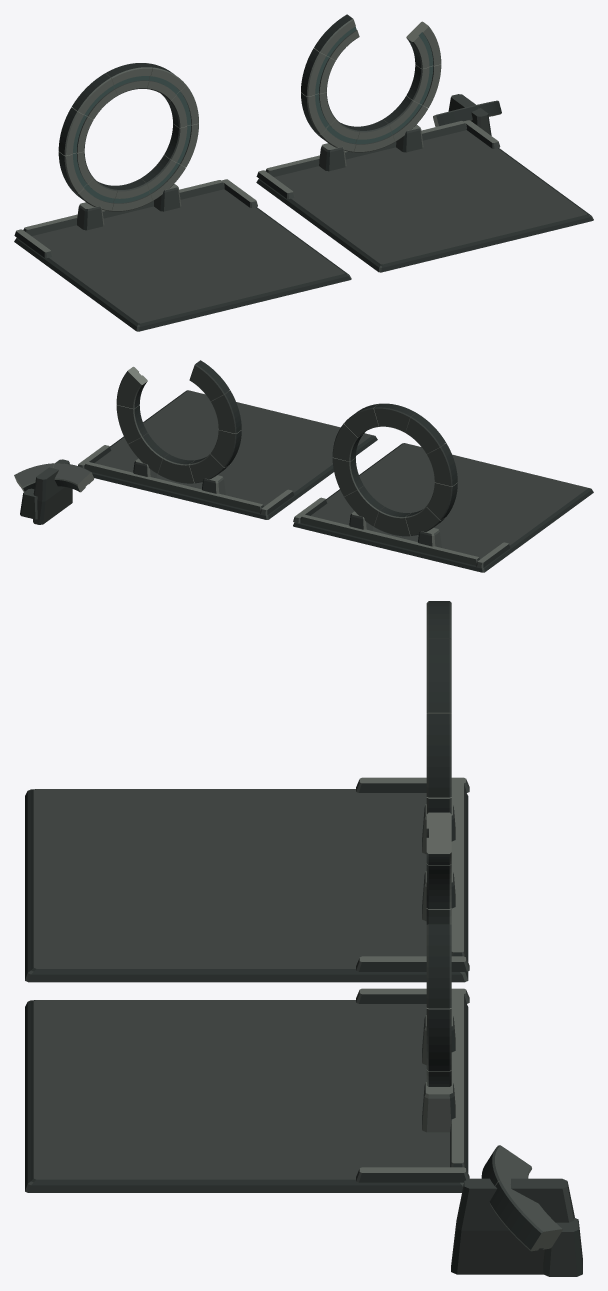
Rendered from l04_wind_orchestra_broken_ring.glb.
3 renders of one model, top to bottom at view 1: azimuth 30°, elevation 25°; view 2: azimuth 150°, elevation 25°; view 3: azimuth 270°, elevation 25°, orthographic. The views are drawn at different scales.
Parts seen in each view (by area): view 1: L04_Intact_CourtSurface, L04_Damaged_CourtSurface, L04_Damaged_CourtFoundation, L04_Intact_CourtFoundation, L04_Damaged_LowCourtWall_Rear, L04_Intact_LowCourtWall_Rear, L04_Intact_RingArc_04, L04_Damaged_RingArc_04, L04_Intact_RingArc_05, L04_Damaged_RingArc_05, L04_Damaged_RingArc_01, L04_Intact_RingArc_03 (+20 smaller); view 2: L04_Intact_CourtSurface, L04_Damaged_CourtSurface, L04_Intact_CourtFoundation, L04_Intact_LowCourtWall_Rear, L04_Damaged_CourtFoundation, L04_Damaged_LowCourtWall_Rear, L04_Damaged_SideCliffWall, L04_Damaged_RingArc_04, L04_Intact_RingArc_04, L04_Intact_RingArc_05, L04_Damaged_RingArc_05, L04_Damaged_RingArc_01 (+21 smaller); view 3: L04_Damaged_CourtSurface, L04_Intact_CourtSurface, L04_Damaged_SideCliffWall, L04_Intact_CourtFoundation, L04_Damaged_CourtFoundation, L04_Damaged_FallenMatchingArc_01, L04_Damaged_LowCourtWall_Rear, L04_Intact_LowCourtWall_Rear, L04_Damaged_RingArc_01, L04_Intact_RingArc_01, L04_Intact_RingArc_02, L04_Damaged_LowCourtWall_Right (+10 smaller).
Boxes of the visible parts, bbox=[...] form: L04_Intact_CourtSurface: bbox=[32, 189, 346, 325]; L04_Damaged_CourtSurface: bbox=[274, 130, 588, 265]; L04_Damaged_CourtFoundation: bbox=[256, 148, 593, 272]; L04_Intact_CourtFoundation: bbox=[14, 207, 351, 331]; L04_Damaged_LowCourtWall_Rear: bbox=[265, 121, 466, 176]; L04_Intact_LowCourtWall_Rear: bbox=[23, 180, 224, 236]; L04_Intact_RingArc_04: bbox=[72, 73, 117, 119]; L04_Damaged_RingArc_04: bbox=[314, 14, 359, 60]; L04_Intact_RingArc_05: bbox=[58, 107, 93, 155]; L04_Damaged_RingArc_05: bbox=[301, 48, 335, 96]; L04_Damaged_RingArc_01: bbox=[406, 21, 441, 68]; L04_Intact_RingArc_03: bbox=[105, 63, 152, 95]; L04_Intact_CourtSurface: bbox=[310, 443, 589, 559]; L04_Damaged_CourtSurface: bbox=[94, 390, 373, 506]; L04_Intact_CourtFoundation: bbox=[293, 443, 593, 572]; L04_Intact_LowCourtWall_Rear: bbox=[300, 514, 479, 565]; L04_Damaged_CourtFoundation: bbox=[91, 390, 377, 519]; L04_Damaged_LowCourtWall_Rear: bbox=[84, 462, 263, 512]; L04_Damaged_SideCliffWall: bbox=[33, 459, 72, 524]; L04_Damaged_RingArc_04: bbox=[189, 360, 229, 401]; L04_Intact_RingArc_04: bbox=[405, 413, 445, 453]; L04_Intact_RingArc_05: bbox=[427, 443, 457, 486]; L04_Damaged_RingArc_05: bbox=[211, 390, 241, 433]; L04_Damaged_RingArc_01: bbox=[116, 366, 147, 408]; L04_Damaged_CourtSurface: bbox=[31, 1000, 449, 1182]; L04_Intact_CourtSurface: bbox=[31, 789, 426, 971]; L04_Damaged_SideCliffWall: bbox=[451, 1178, 574, 1274]; L04_Intact_CourtFoundation: bbox=[25, 789, 468, 982]; L04_Damaged_CourtFoundation: bbox=[25, 1000, 468, 1192]; L04_Damaged_FallenMatchingArc_01: bbox=[489, 1181, 562, 1251]; L04_Damaged_LowCourtWall_Rear: bbox=[450, 992, 465, 1167]; L04_Intact_LowCourtWall_Rear: bbox=[451, 781, 465, 956]; L04_Damaged_RingArc_01: bbox=[426, 924, 451, 1008]; L04_Intact_RingArc_01: bbox=[426, 713, 451, 797]; L04_Intact_RingArc_02: bbox=[426, 638, 451, 713]; L04_Damaged_LowCourtWall_Right: bbox=[356, 1167, 469, 1182].
Size of the model in its own units: 37.64 by 13.55 by 20.14.
